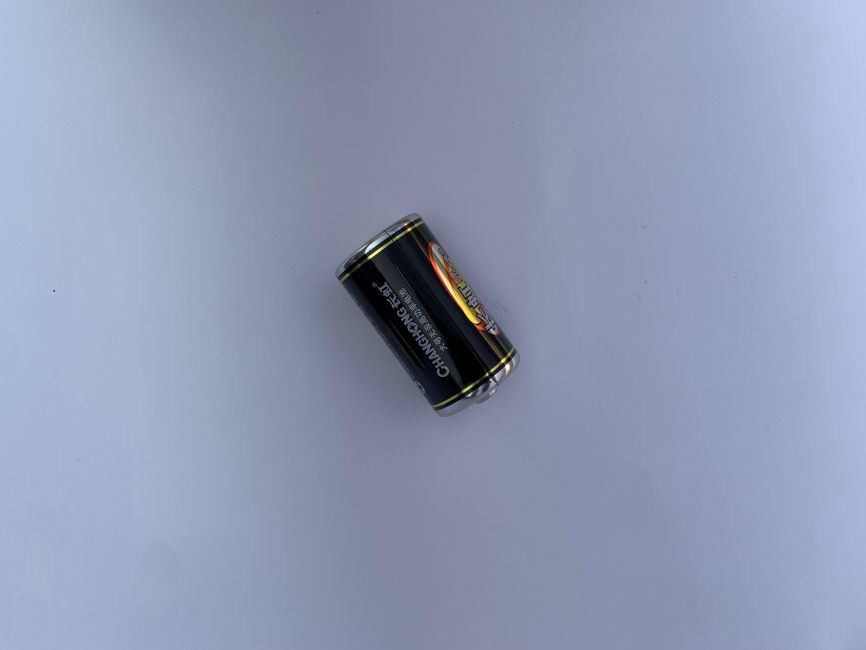charge: (334, 210, 523, 421)
